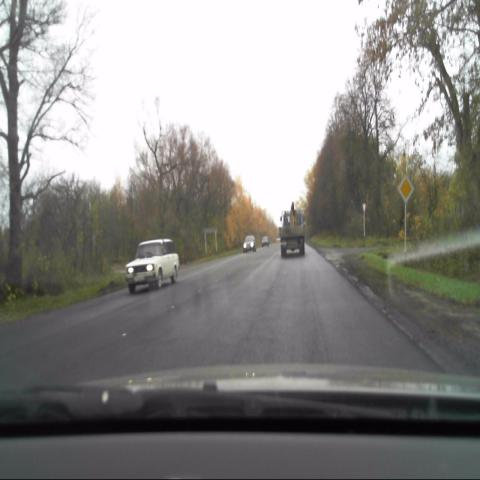2_1: (398, 175, 414, 204)
